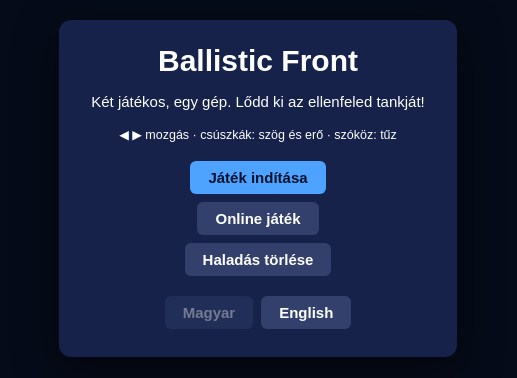
Test: MainMenu › az online játék gomb megnyitja a szobalobbyt
Click the button "Online játék". click: (258, 218)
box: [198,202,318,234]
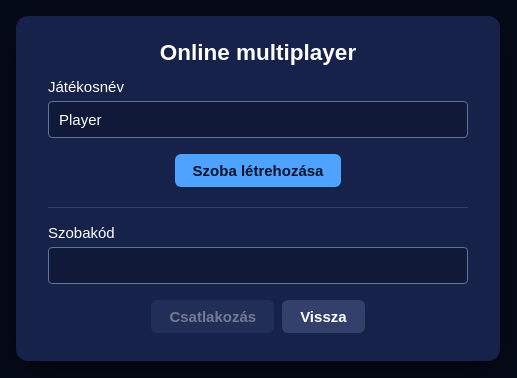
Now the heading "Online multiplayer" is shown, box [160,40,356,64]
Now the button "Szoba létrehozása" is shown, box [174,154,341,186]
